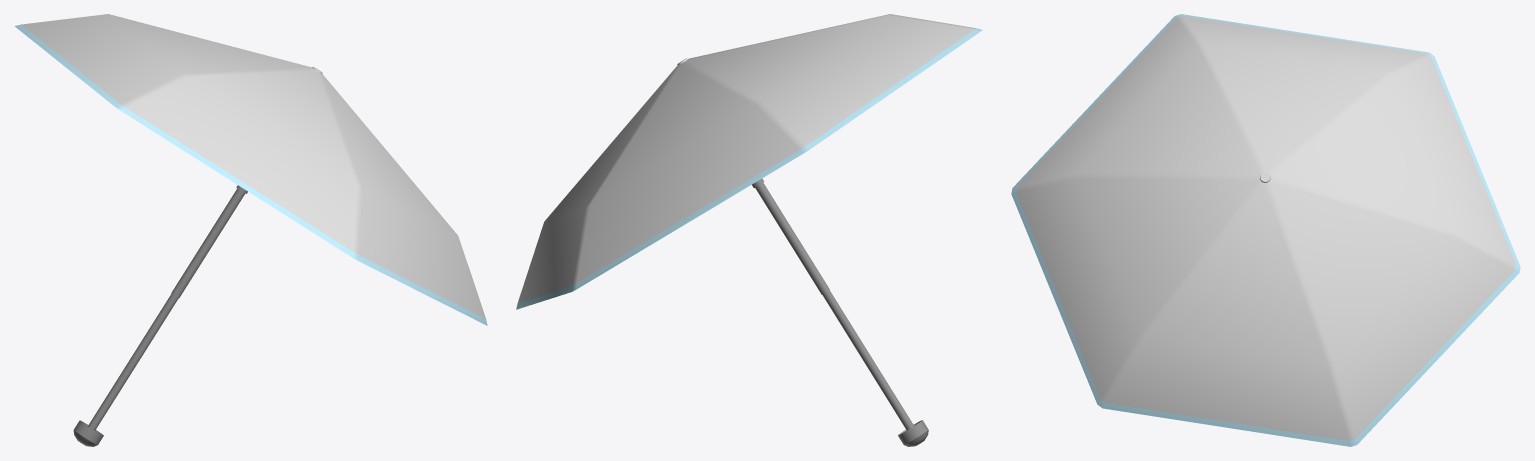
The model's file is kasa.gltf.
3 views of the same model, side by side, from view 1: azimuth 30°, elevation 25°; view 2: azimuth 150°, elevation 25°; view 3: azimuth 270°, elevation 25° (orthographic). The views are drawn at different scales.
Parts seen in each view (by area): view 1: 円錐, 円柱; view 2: 円錐, 円柱; view 3: 円錐.
Part boxes in pixels (x1,y1,x2,y2): 円錐: (14, 14, 487, 325); 円柱: (73, 185, 247, 446); 円錐: (516, 14, 982, 309); 円柱: (752, 178, 928, 446); 円錐: (1011, 14, 1520, 446).
Bounding box in the file's own units: 12.54 × 12.66 × 16.56.
